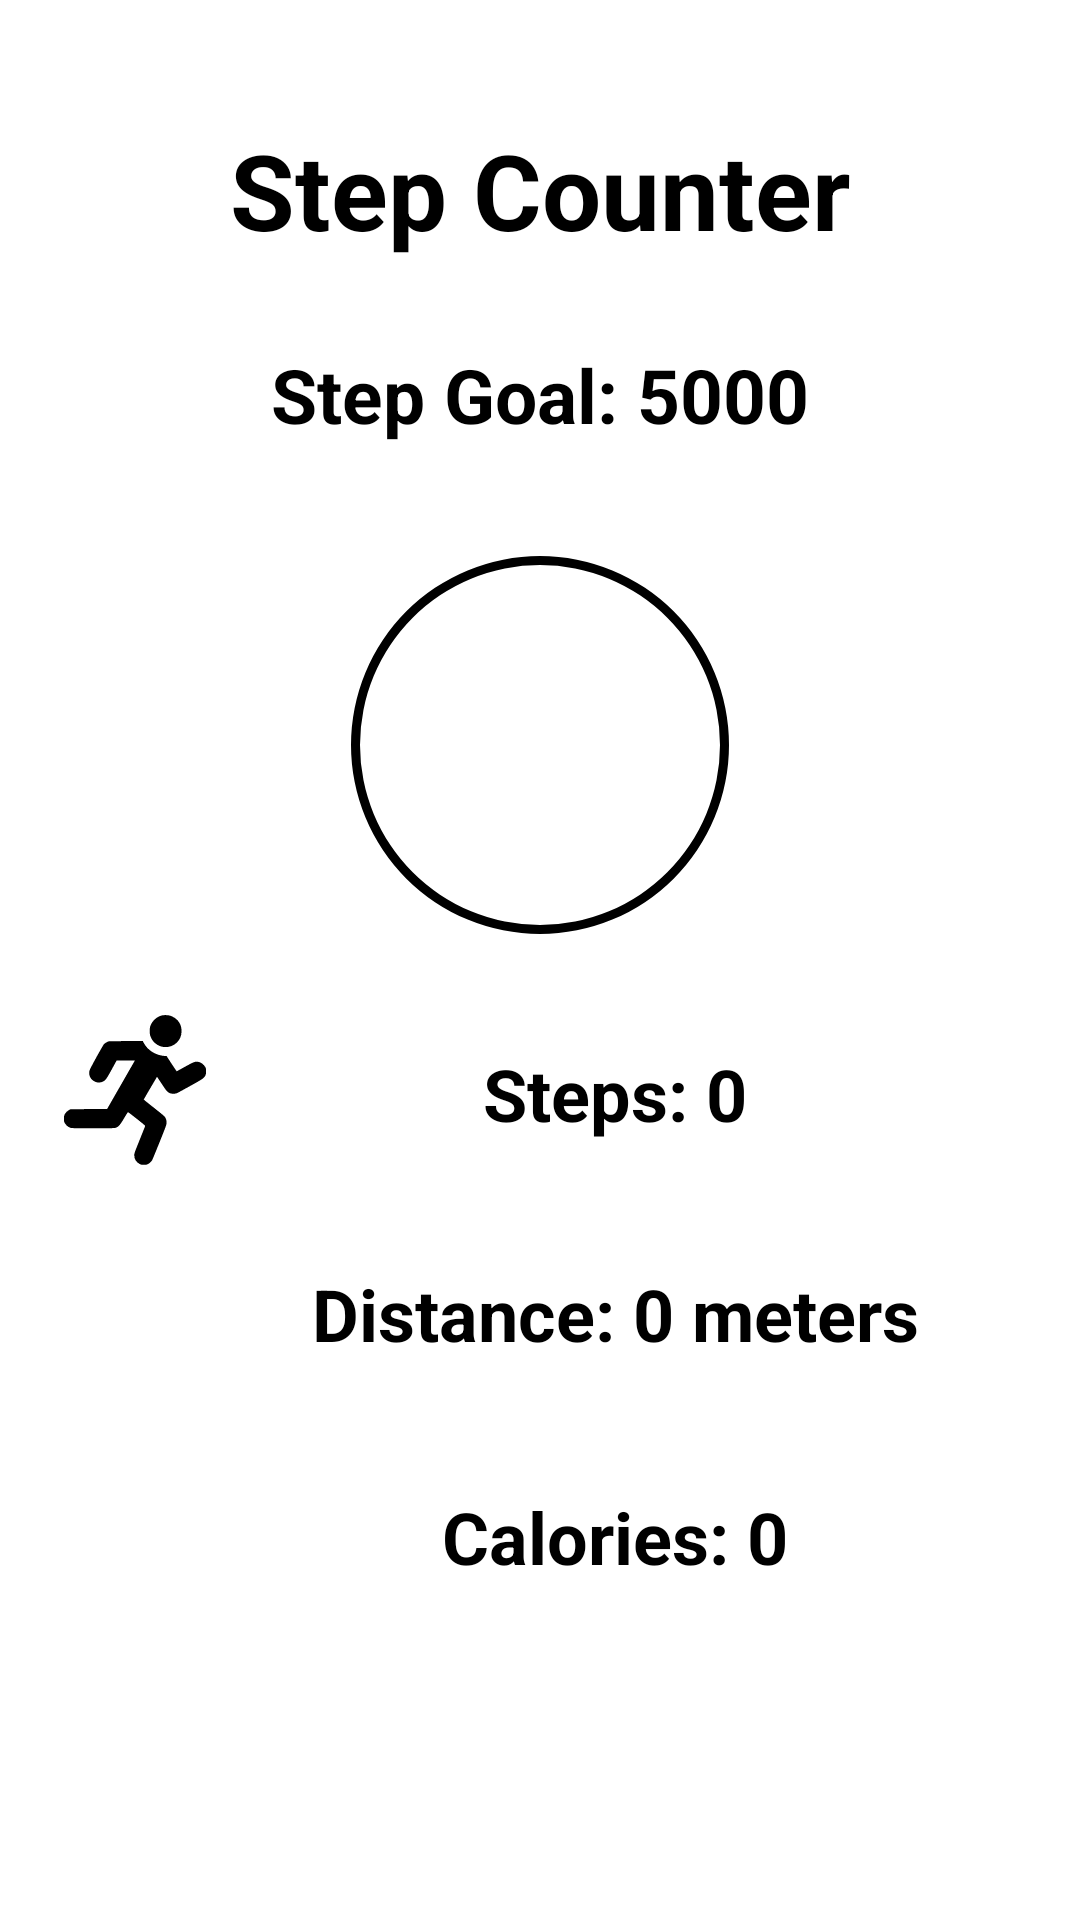

Screen size 1080×1920. Icon name, then its center in pixels as [x,y]:
run: [135,1090]
